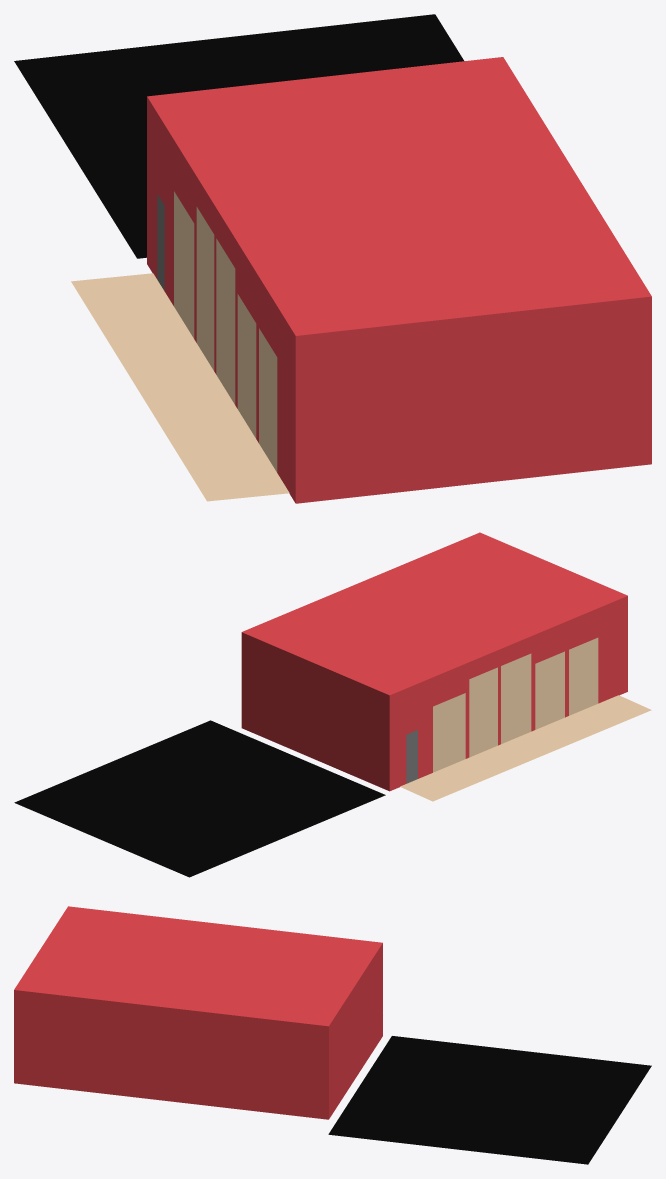
File: capefirehouse3.glb
3 views of the same model, one above another, from view 1: azimuth 30°, elevation 25°; view 2: azimuth 150°, elevation 25°; view 3: azimuth 270°, elevation 25° (orthographic). The views are drawn at different scales.
Visible parts, largest first — view 1: Plane.002, Firehouse; view 2: Plane.002, Firehouse; view 3: Plane.002, Firehouse.
Part boxes in pixels (x1,y1,x2,y2): Plane.002: (71, 57, 651, 503); Firehouse: (14, 14, 464, 258); Plane.002: (241, 532, 651, 801); Firehouse: (14, 720, 385, 877); Plane.002: (14, 906, 382, 1119); Firehouse: (328, 1036, 651, 1164).
Size of the model in its own units: 0.1087 by 0.026 by 0.1606.
